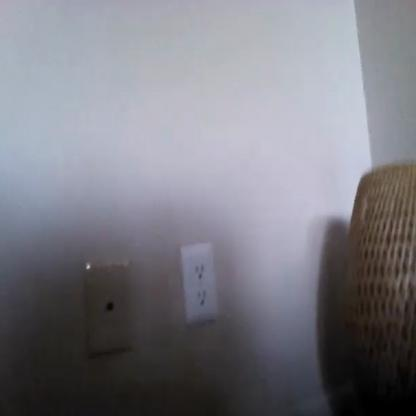OUTLET: (181, 242, 218, 321)
